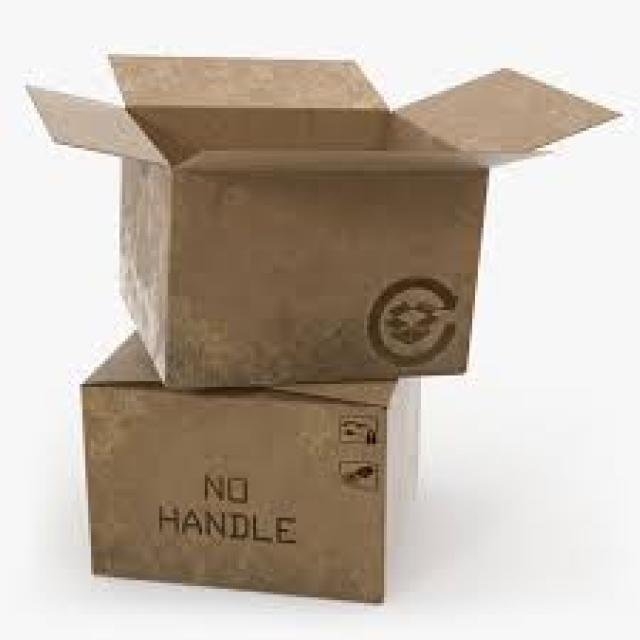cardboard: (23, 51, 620, 387), (77, 330, 421, 603)
